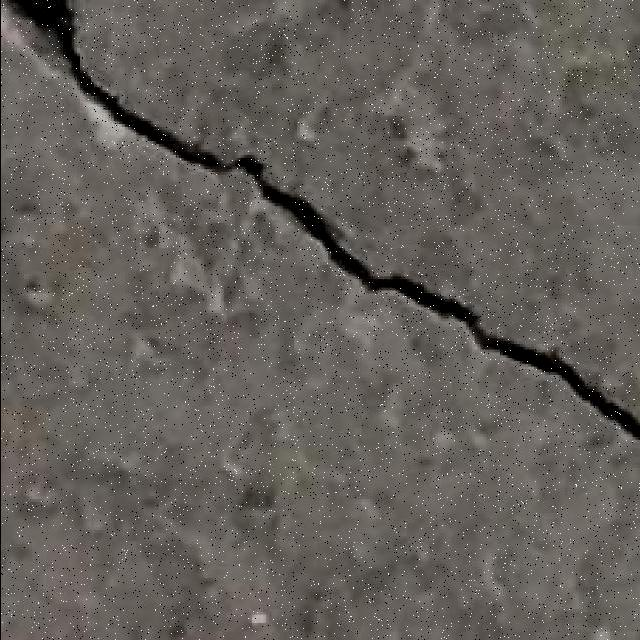crack: (10, 0, 638, 441), (13, 6, 238, 173), (4, 122, 87, 241), (5, 14, 78, 92), (224, 6, 272, 36)
